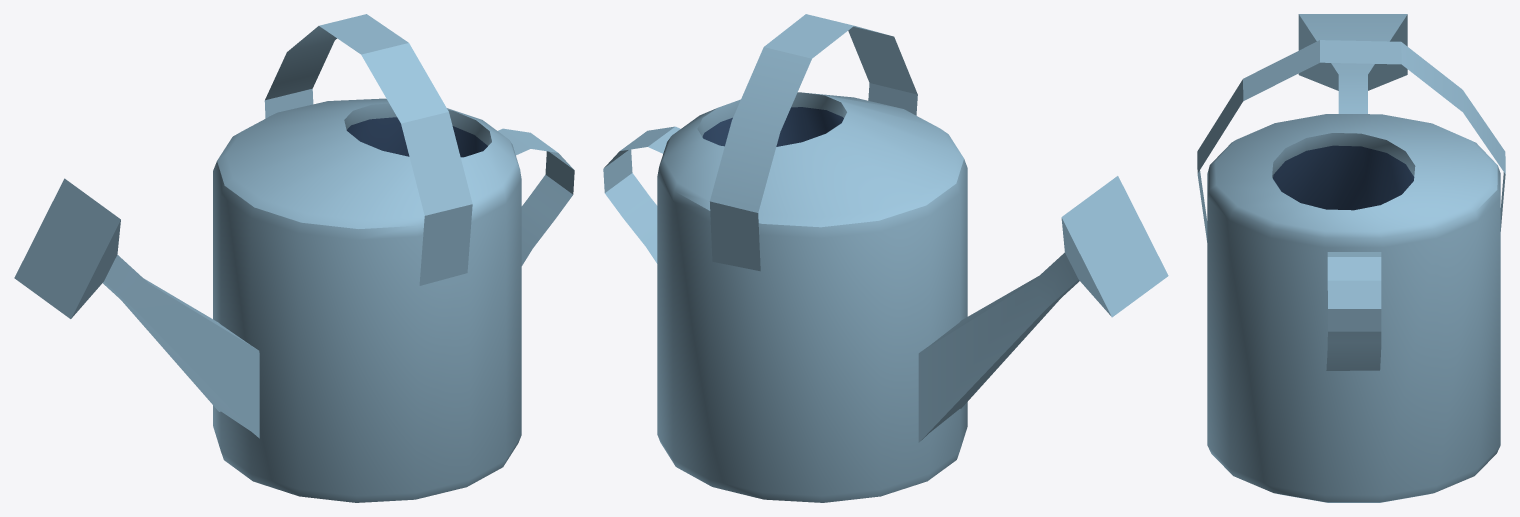
File: regador.obj
3 renders of one model, left to right at view 1: azimuth 30°, elevation 25°; view 2: azimuth 150°, elevation 25°; view 3: azimuth 270°, elevation 25°, orthographic. The views are drawn at different scales.
Parts seen in each view (by area): view 1: Plane; view 2: Plane; view 3: Plane.
Part boxes in pixels (x1,y1,x2,y2): Plane: [14, 14, 574, 502]; Plane: [603, 14, 1168, 502]; Plane: [1197, 14, 1505, 502].
Size of the model in its own units: 1.35 by 1.01 by 0.7179.
